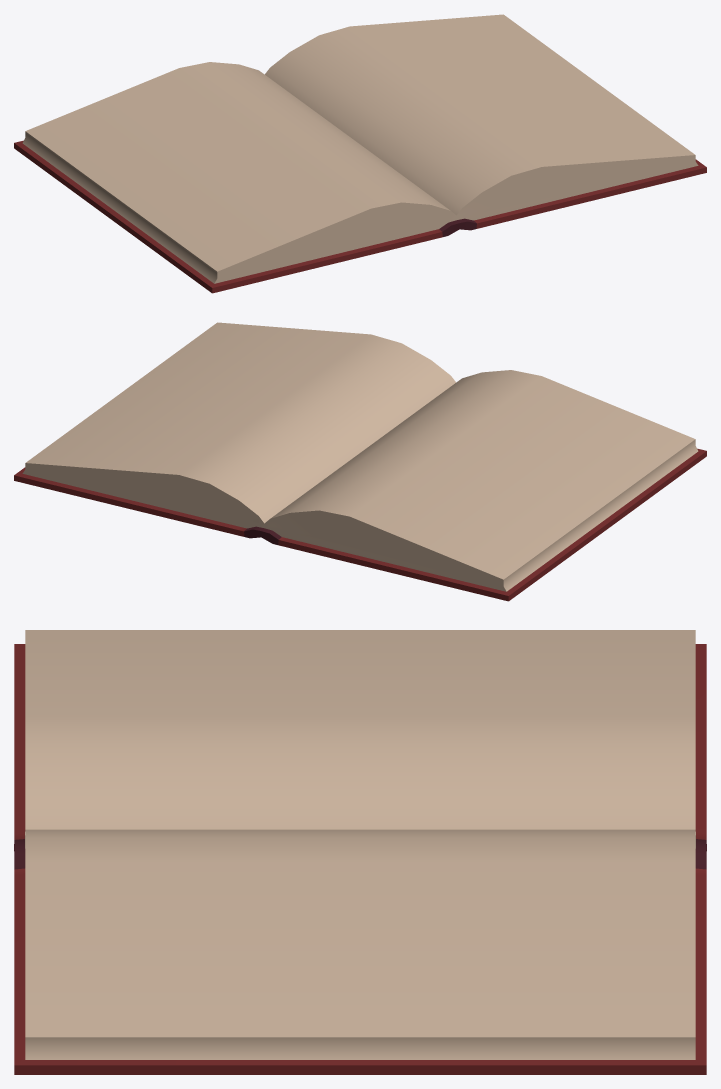
The model's file is Book_10_Open.fbx.
3 views of the same model, one above another, from view 1: azimuth 30°, elevation 25°; view 2: azimuth 150°, elevation 25°; view 3: azimuth 270°, elevation 25° (orthographic). The views are drawn at different scales.
Parts seen in each view (by area): view 1: Book_10_Open; view 2: Book_10_Open; view 3: Book_10_Open.
Boxes of the visible parts, left/top/right/bottom form: Book_10_Open: left=14, top=14, right=706, bottom=293; Book_10_Open: left=14, top=322, right=706, bottom=601; Book_10_Open: left=14, top=630, right=706, bottom=1074.
Bounding box in the file's own units: 0.4644 × 0.0386 × 0.3228.
